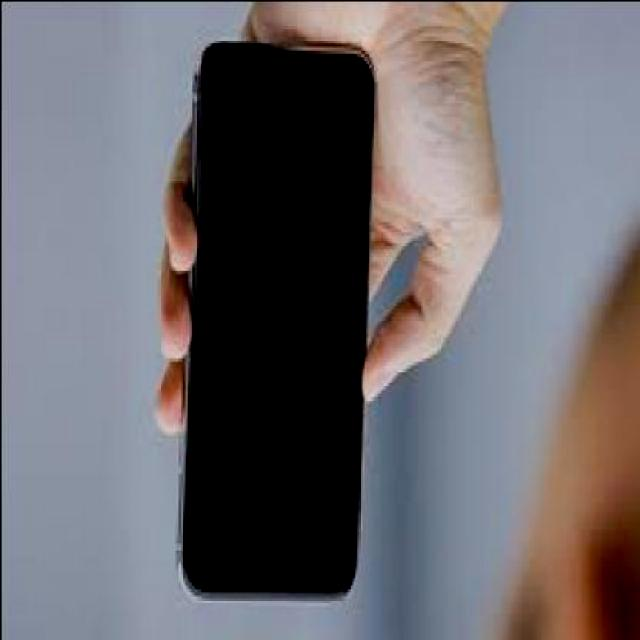phone: (174, 39, 372, 598)
